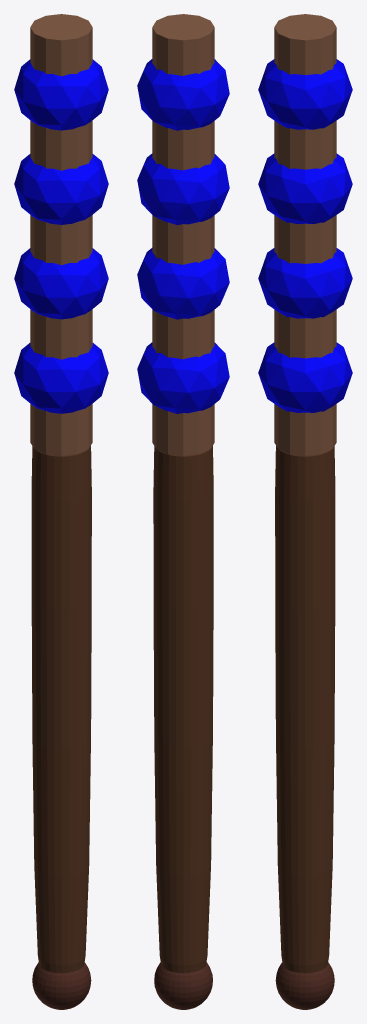
File: Wand 33.glb
The picture shows the model from 3 angles, left to right: view 1: azimuth 90°, elevation 25°; view 2: azimuth 150°, elevation 25°; view 3: azimuth 270°, elevation 25°; orthographic projection.
Parts seen in each view (by area): view 1: GeneratedWand; view 2: GeneratedWand; view 3: GeneratedWand.
Part boxes in pixels (x1=…): GeneratedWand: x1=14, y1=14, x2=108, y2=1009; GeneratedWand: x1=137, y1=14, x2=229, y2=1009; GeneratedWand: x1=258, y1=14, x2=352, y2=1009.
Size of the model in its own units: 0.0407 by 0.4896 by 0.0428.
